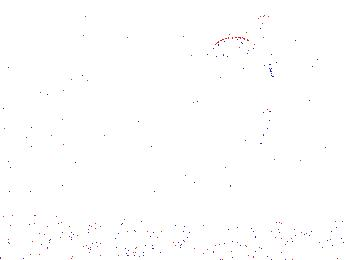moon jellyfish: (208, 107, 282, 176), (21, 78, 92, 146), (202, 36, 272, 91), (255, 13, 318, 71), (96, 5, 177, 41), (64, 1, 155, 29)
